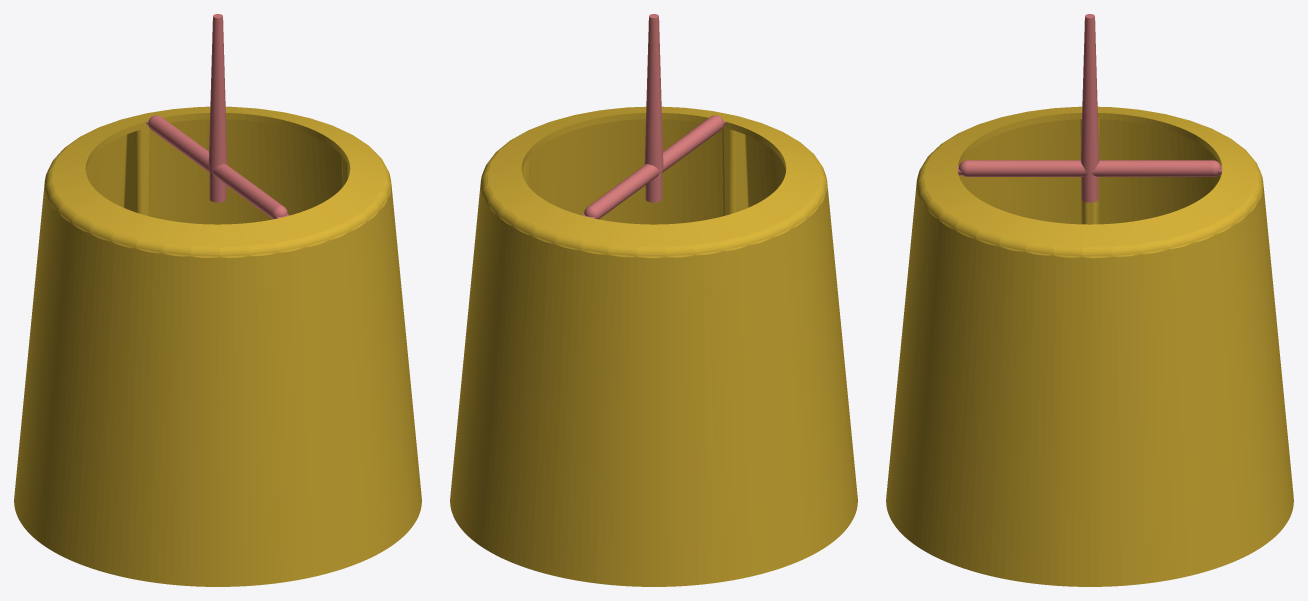
Rendered from plastic_part_and_runner.glb.
3 renders of one model, left to right at view 1: azimuth 30°, elevation 25°; view 2: azimuth 150°, elevation 25°; view 3: azimuth 270°, elevation 25°, orthographic.
Visible parts, largest first — view 1: Plastic_Part_PEEK, Hot_Runner_System; view 2: Plastic_Part_PEEK, Hot_Runner_System; view 3: Plastic_Part_PEEK, Hot_Runner_System.
Part boxes in pixels (box(x1,y1,x2,y2)): Plastic_Part_PEEK: box(14, 106, 421, 586); Hot_Runner_System: box(146, 14, 289, 219); Plastic_Part_PEEK: box(450, 106, 857, 586); Hot_Runner_System: box(582, 14, 725, 219); Plastic_Part_PEEK: box(886, 106, 1293, 586); Hot_Runner_System: box(957, 14, 1222, 202).
Size of the model in its own units: 121 by 159 by 121.
